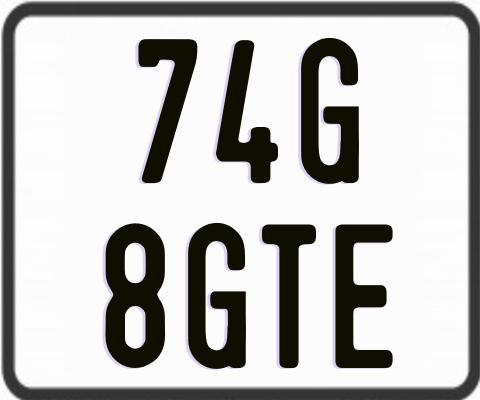4: (215, 40, 282, 184)
7: (135, 38, 200, 185)
8: (103, 222, 165, 373)
E: (334, 224, 395, 372)
G: (185, 221, 246, 372), (298, 37, 356, 188)
T: (259, 224, 317, 368)
